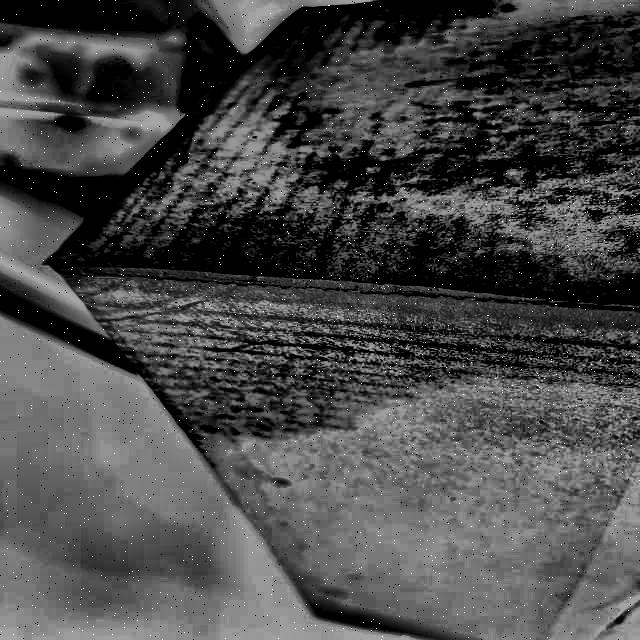box: (35, 0, 636, 640)
wet: (48, 111, 625, 431)
